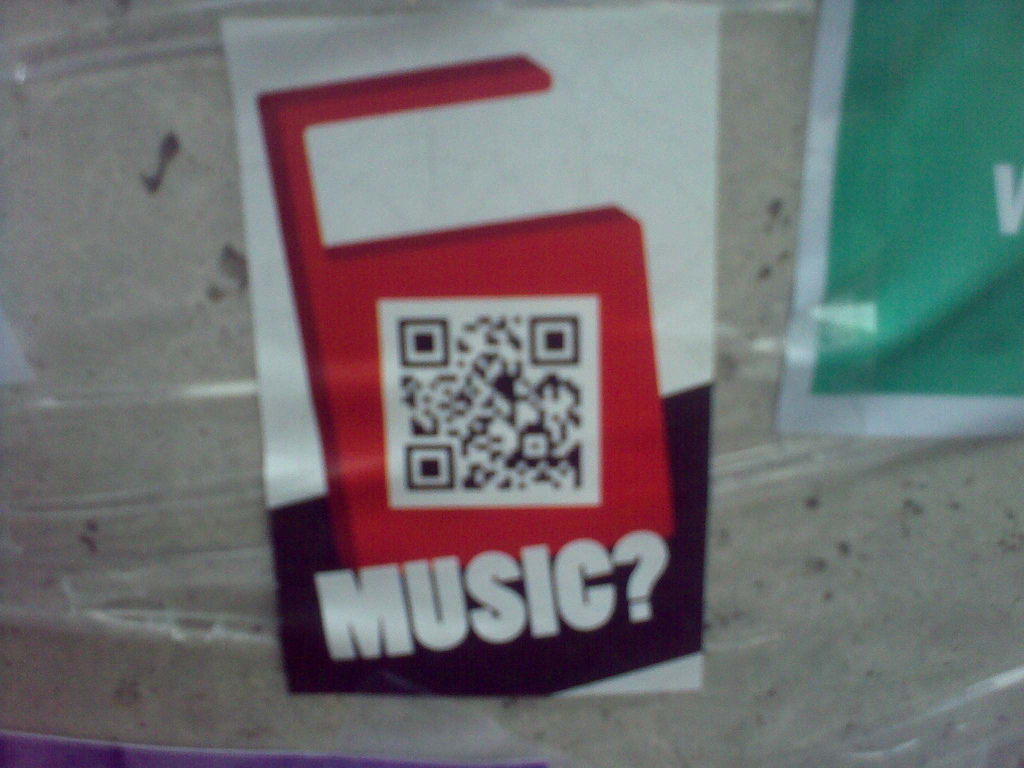QR-CODE: (400, 317, 583, 489)
